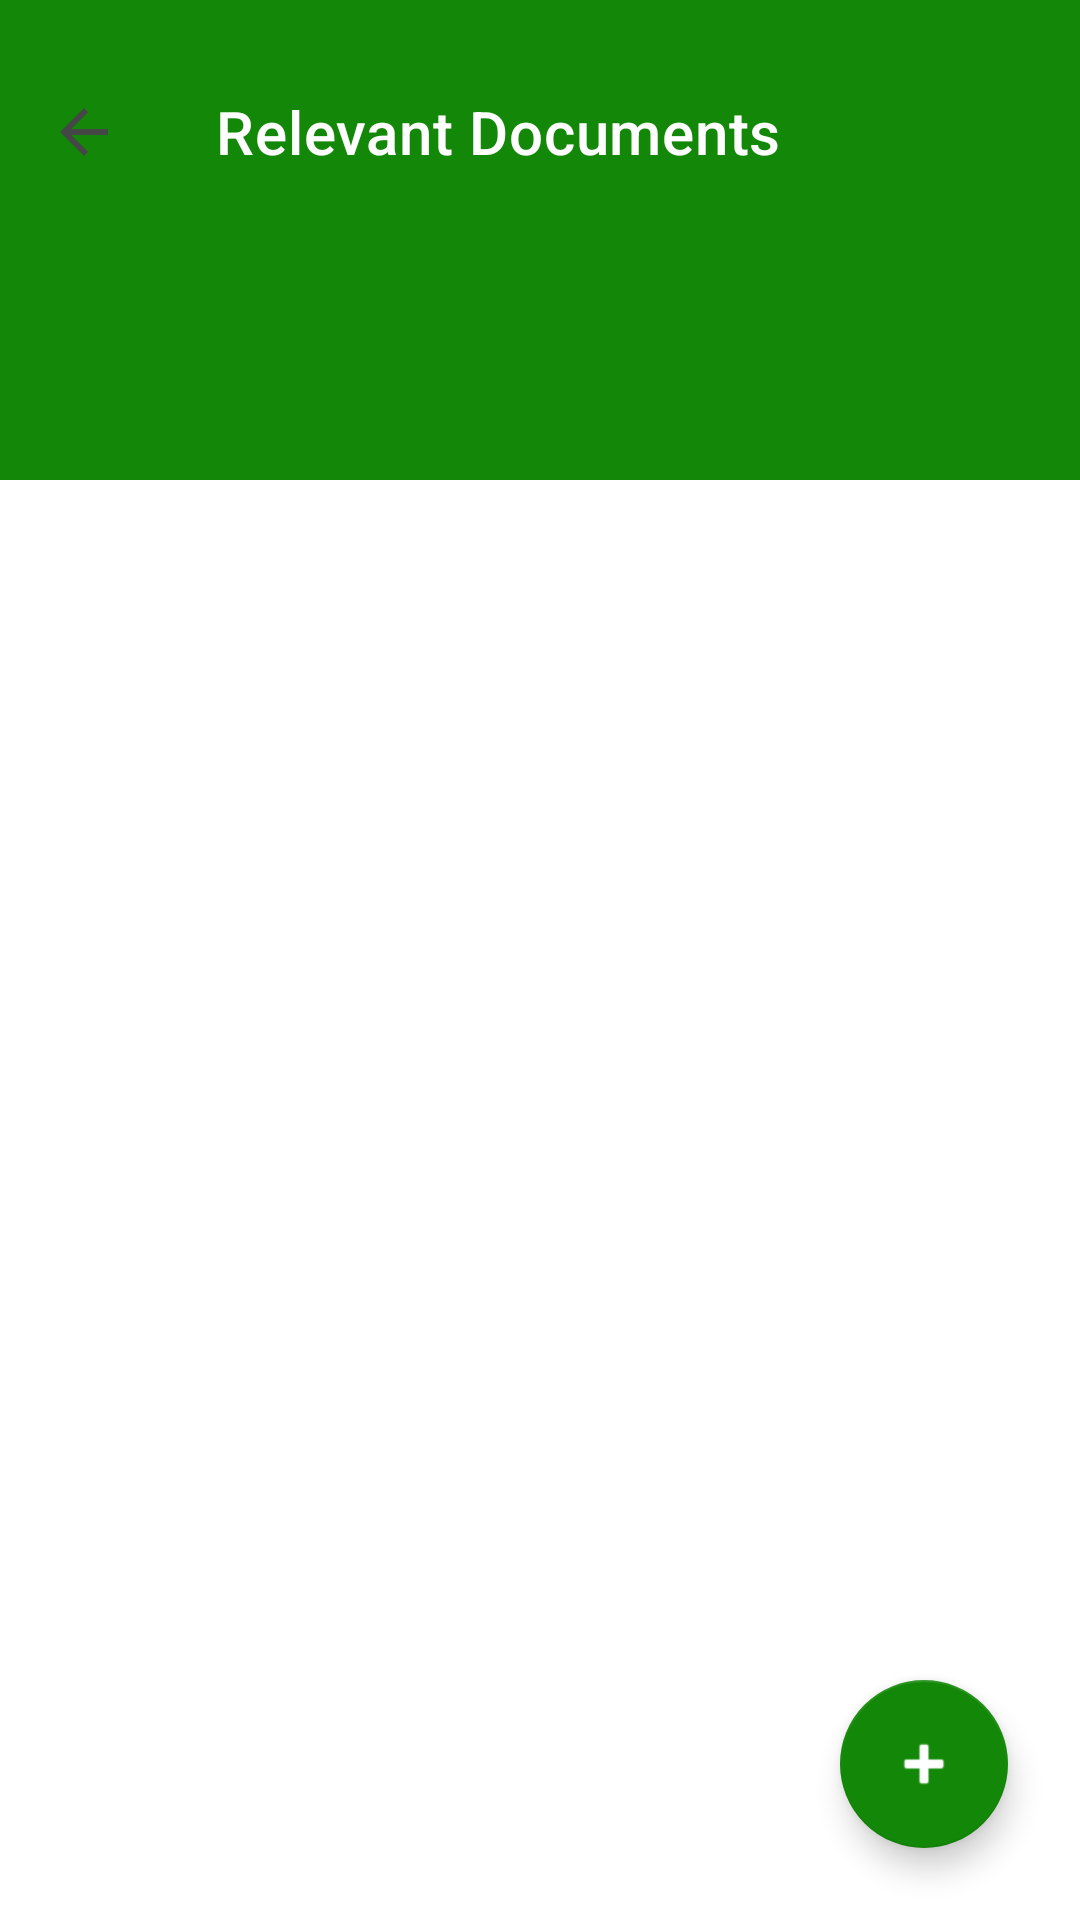

Named icons in this screenshot (1080×1920) and their bounding boxes, (x1, y1, x2, y2):
Add Document: (840, 1680, 1008, 1848)
